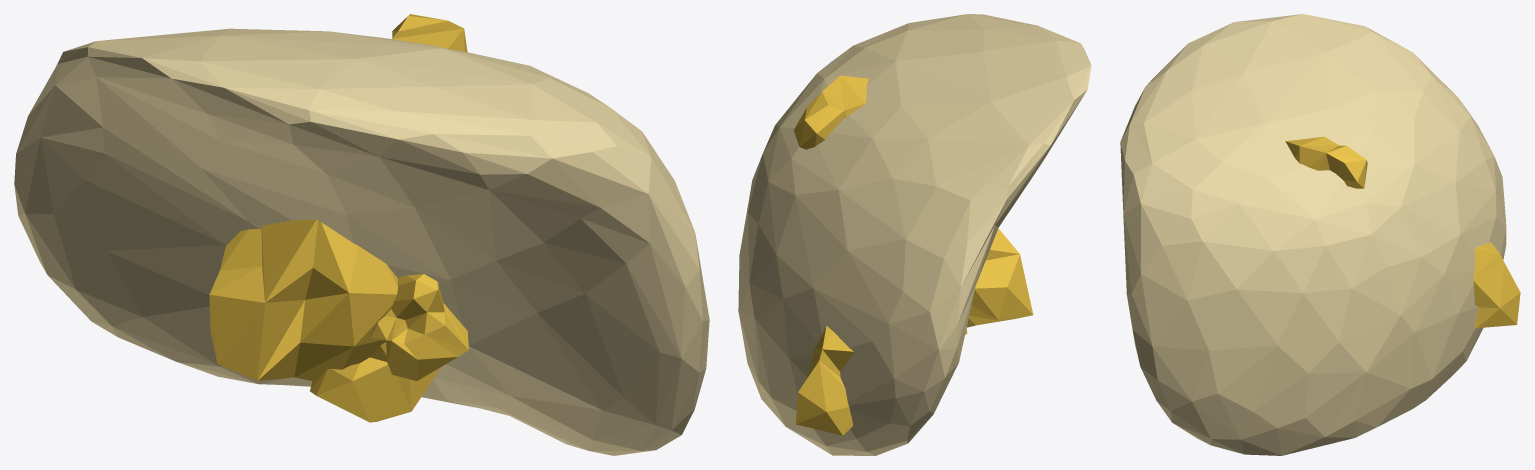
File: MetalOre (45).fbx
The picture shows the model from 3 angles, left to right: view 1: azimuth 30°, elevation 25°; view 2: azimuth 150°, elevation 25°; view 3: azimuth 270°, elevation 25°; orthographic projection. The views are drawn at different scales.
Visible parts, largest first — view 1: Asteroid400; view 2: Asteroid400; view 3: Asteroid400.
Boxes of the visible parts, x1=… form: Asteroid400: x1=14, y1=14, x2=709, y2=455; Asteroid400: x1=738, y1=14, x2=1091, y2=455; Asteroid400: x1=1120, y1=14, x2=1520, y2=455.
Size of the model in its own units: 261 by 248 by 288.
